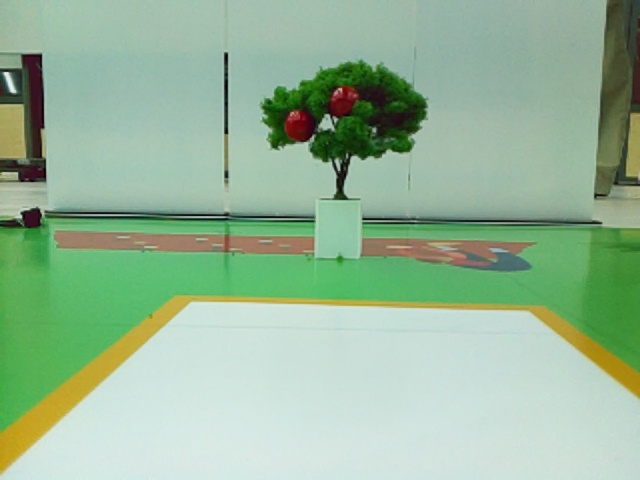apple: (330, 87, 359, 115), (285, 111, 309, 140)
